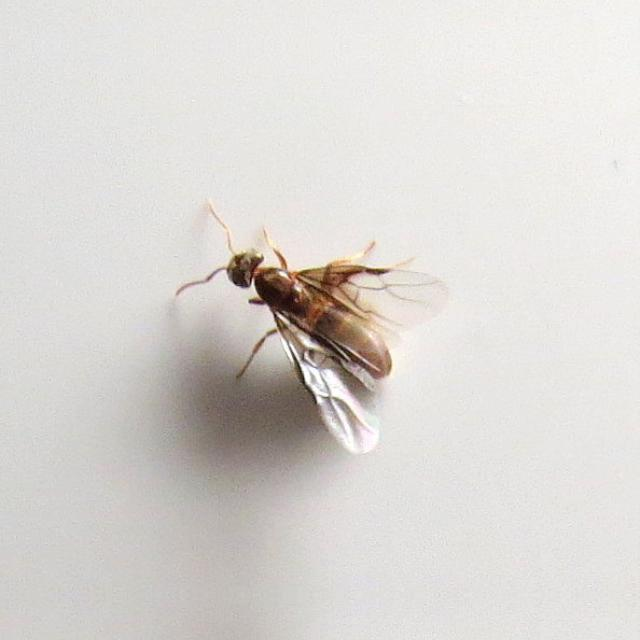Lasius: (186, 196, 446, 440)
